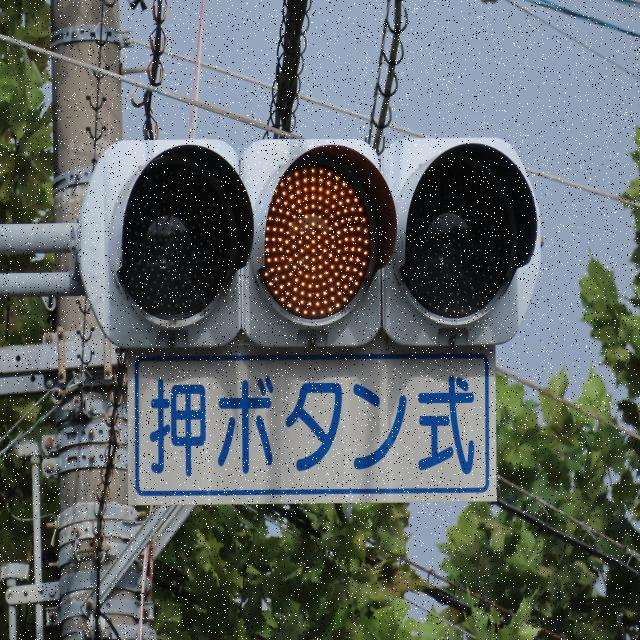Yellow-traffic-light: (266, 155, 399, 343)
